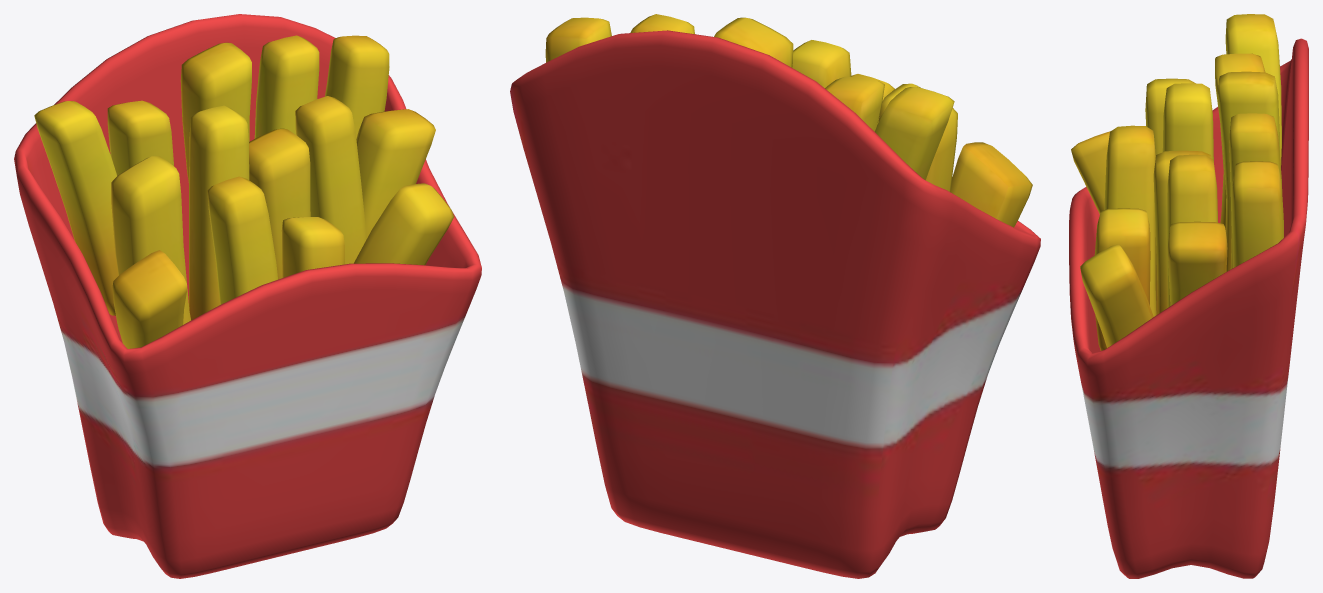
Rendered from fries.glb.
3 views of the same model, side by side, from view 1: azimuth 30°, elevation 25°; view 2: azimuth 150°, elevation 25°; view 3: azimuth 270°, elevation 25° (orthographic). The views are drawn at different scales.
Parts seen in each view (by area): view 1: fries_Box, fries_03, fries_06, fries_10, fries_02, fries_05, fries_13, fries_01, fries_14, fries_08, fries_11, fries_07 (+3 smaller); view 2: fries_Box, fries_01, fries_03, fries_06, fries_07, fries_04, fries_12, fries_02, fries_11; view 3: fries_Box, fries_12, fries_05, fries_14, fries_13, fries_07, fries_10, fries_06, fries_09, fries_11, fries_03, fries_08 (+3 smaller).
Boxes of the visible parts, box(x1,y1,x2,y2) form: fries_Box: box(14, 14, 481, 578); fries_03: box(34, 101, 118, 315); fries_06: box(189, 105, 249, 320); fries_10: box(295, 96, 366, 264); fries_02: box(111, 156, 190, 324); fries_05: box(207, 176, 277, 304); fries_13: box(356, 109, 435, 238); fries_01: box(112, 250, 186, 348); fries_14: box(354, 183, 454, 265); fries_08: box(249, 128, 310, 279); fries_11: box(254, 35, 319, 138); fries_07: box(180, 42, 251, 182); fries_Box: box(510, 30, 1040, 578); fries_01: box(950, 142, 1032, 227); fries_03: box(874, 87, 954, 179); fries_06: box(792, 40, 851, 87); fries_07: box(714, 17, 793, 67); fries_04: box(825, 76, 884, 131); fries_12: box(545, 17, 611, 62); fries_02: box(878, 83, 957, 191); fries_11: box(630, 14, 694, 34); fries_Box: box(1069, 38, 1308, 578); fries_12: box(1232, 161, 1283, 267); fries_05: box(1104, 125, 1156, 316); fries_14: box(1080, 244, 1153, 347); fries_13: box(1167, 221, 1227, 305); fries_07: box(1218, 71, 1279, 271); fries_10: box(1167, 154, 1217, 307); fries_06: box(1162, 83, 1213, 162); fries_09: box(1094, 208, 1150, 350); fries_11: box(1229, 113, 1282, 269); fries_03: box(1225, 14, 1281, 166); fries_08: box(1153, 150, 1211, 313).
Bounding box in the file's own units: 2.98e-06 × 3.57e-06 × 1.66e-06.
1 material, 1 textured.
